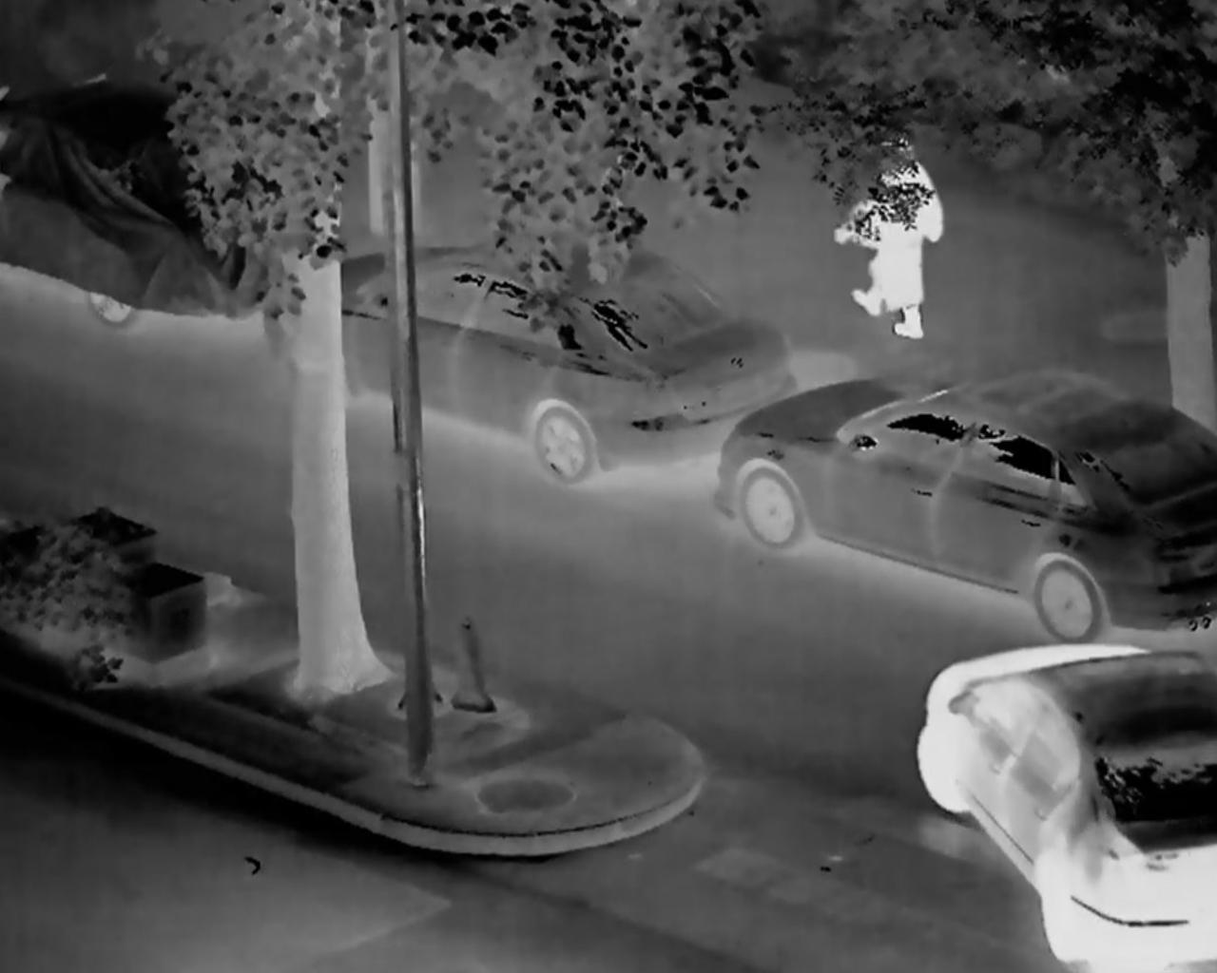person: (822, 116, 957, 343)
